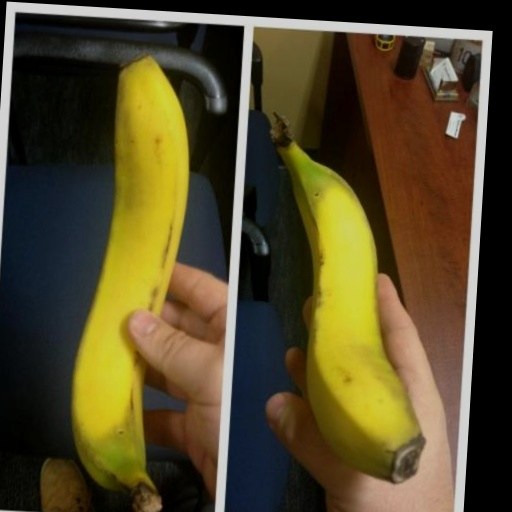fruit: (272, 115, 425, 483), (72, 56, 189, 512)
